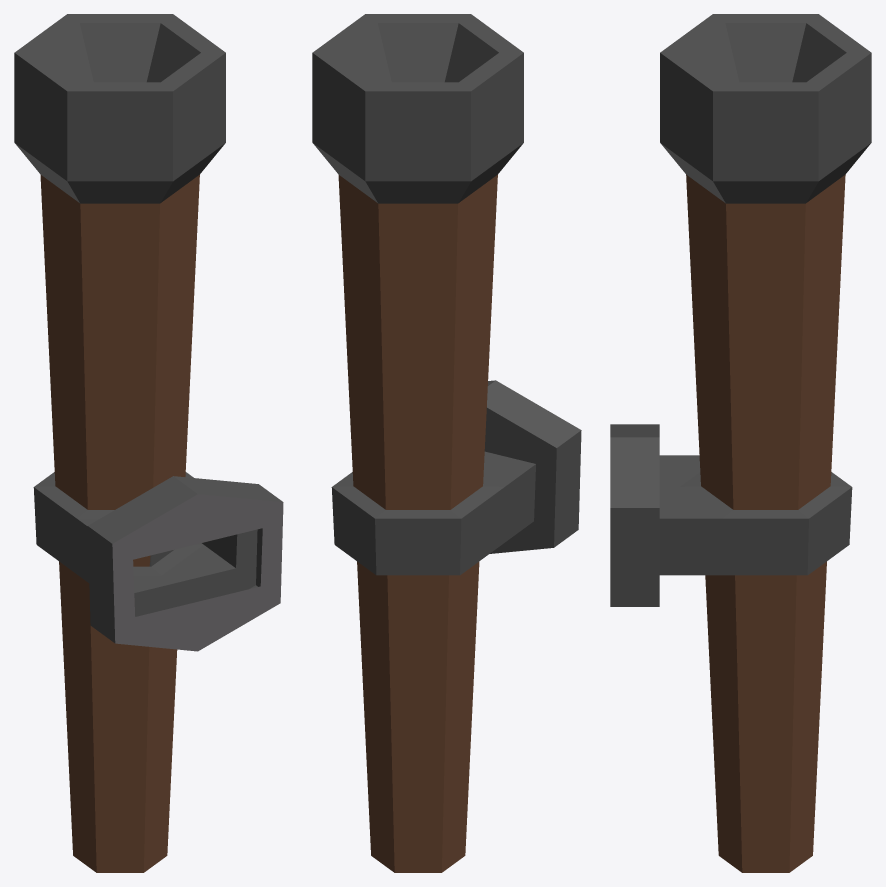
The model's file is Wall_Sconce.fbx.
3 views of the same model, side by side, from view 1: azimuth 30°, elevation 25°; view 2: azimuth 150°, elevation 25°; view 3: azimuth 270°, elevation 25° (orthographic).
Visible parts, largest first — view 1: Wall_Sconce; view 2: Wall_Sconce; view 3: Wall_Sconce.
Part boxes in pixels (<box>): Wall_Sconce: <box>14,14,283,872</box>; Wall_Sconce: <box>312,14,581,872</box>; Wall_Sconce: <box>610,14,871,872</box>.
Size of the model in its own units: 9.49 by 42.55 by 12.54.
